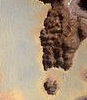Corrosion: (37, 1, 87, 72), (43, 78, 59, 96)
